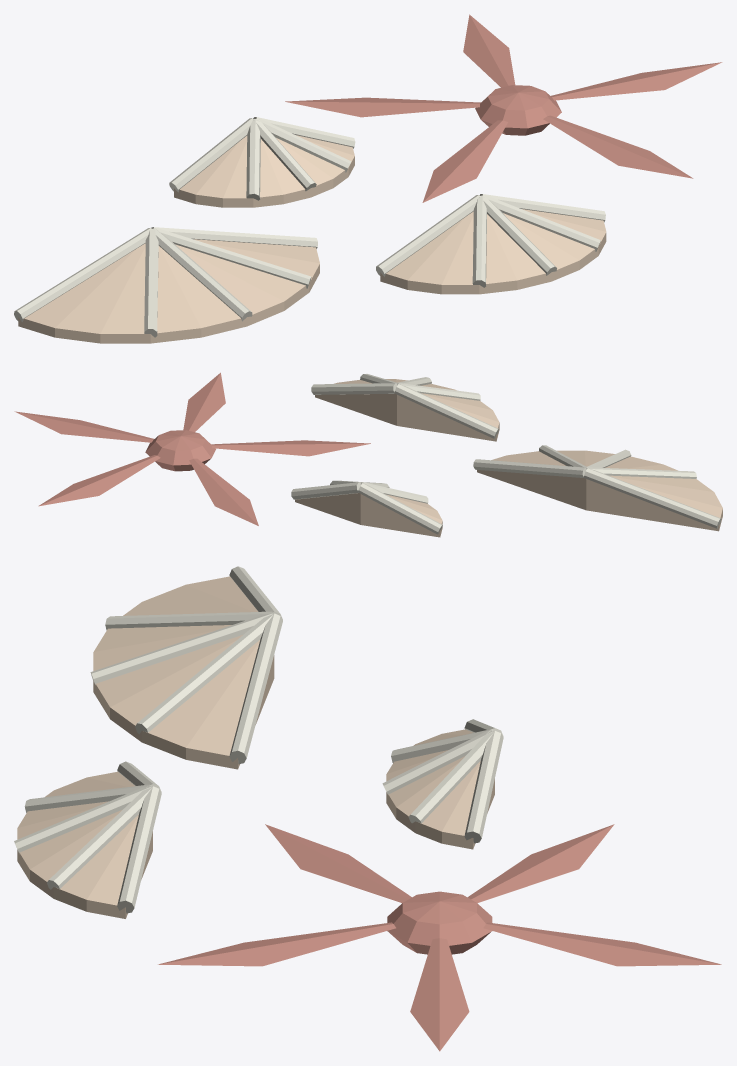
The model's file is shell_cluster.glb.
The picture shows the model from 3 angles, top to bottom: view 1: azimuth 30°, elevation 25°; view 2: azimuth 150°, elevation 25°; view 3: azimuth 270°, elevation 25°; orthographic projection. The views are drawn at different scales.
Visible parts, largest first — view 1: scallop_shell (×3), shell_rib (×15), starfish_arm (×5), shell_rim (×3), starfish_center; view 2: shell_rim (×3), shell_rib (×11), starfish_arm (×5), scallop_shell (×3), starfish_center; view 3: scallop_shell (×3), shell_rib (×13), starfish_arm (×5), starfish_center, shell_rim (×3).
Boxes of the visible parts, left/top/right/bottom form: scallop_shell (×3): left=24, top=135, right=606, bottom=333; shell_rib (×15): left=14, top=117, right=605, bottom=337; starfish_arm (×5): left=285, top=14, right=722, bottom=202; shell_rim (×3): left=18, top=156, right=606, bottom=343; starfish_center: left=475, top=85, right=561, bottom=135; shell_rim (×3): left=295, top=393, right=722, bottom=537; shell_rib (×11): left=291, top=383, right=721, bottom=534; starfish_arm (×5): left=14, top=372, right=370, bottom=525; scallop_shell (×3): left=334, top=379, right=722, bottom=523; starfish_center: left=145, top=430, right=215, bottom=471; scallop_shell (×3): left=17, top=576, right=480, bottom=905; shell_rib (×13): left=14, top=566, right=503, bottom=913; starfish_arm (×5): left=158, top=824, right=721, bottom=1051; starfish_center: left=387, top=891, right=492, bottom=954; shell_rim (×3): left=17, top=655, right=494, bottom=918.
Bounding box in the file's own units: 1.04 × 0.0683 × 0.6429.
